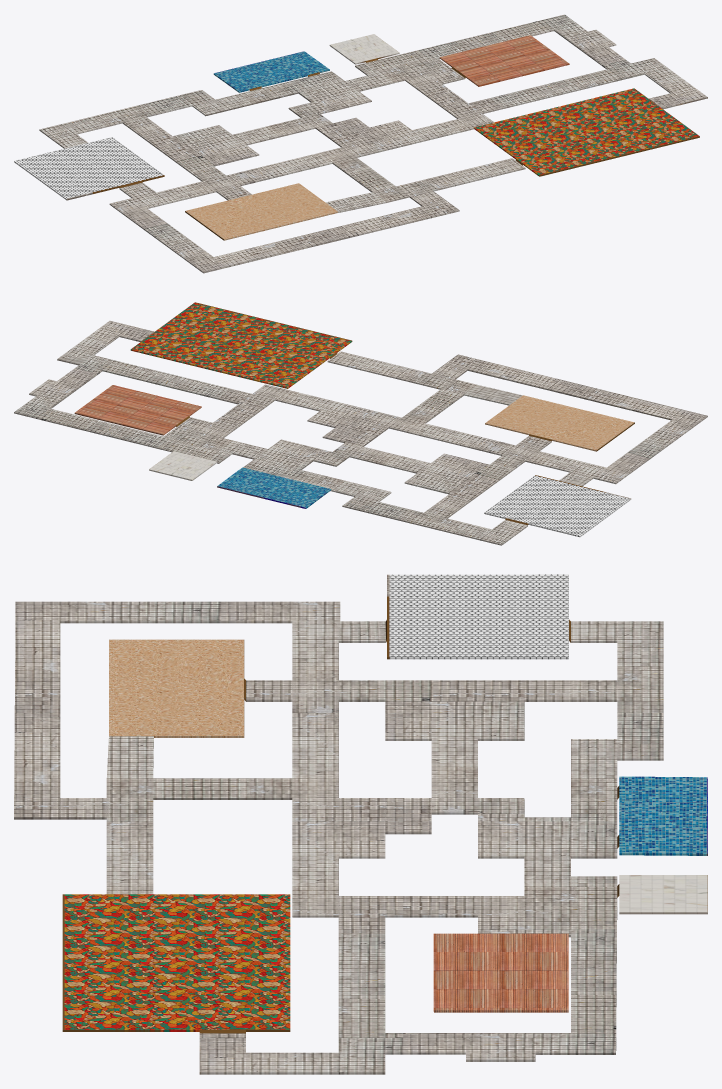
File: floor2.fbx
The picture shows the model from 3 angles, top to bottom: view 1: azimuth 30°, elevation 25°; view 2: azimuth 150°, elevation 25°; view 3: azimuth 270°, elevation 25°; orthographic projection. The views are drawn at different scales.
Parts seen in each view (by area): view 1: floor2; view 2: floor2; view 3: floor2.
Boxes of the visible parts, x1=… form: floor2: x1=14, y1=14, x2=707, y2=273; floor2: x1=14, y1=302, x2=707, y2=545; floor2: x1=14, y1=574, x2=707, y2=1074.
Size of the model in its own units: 5054 by 22.43 by 2991.
